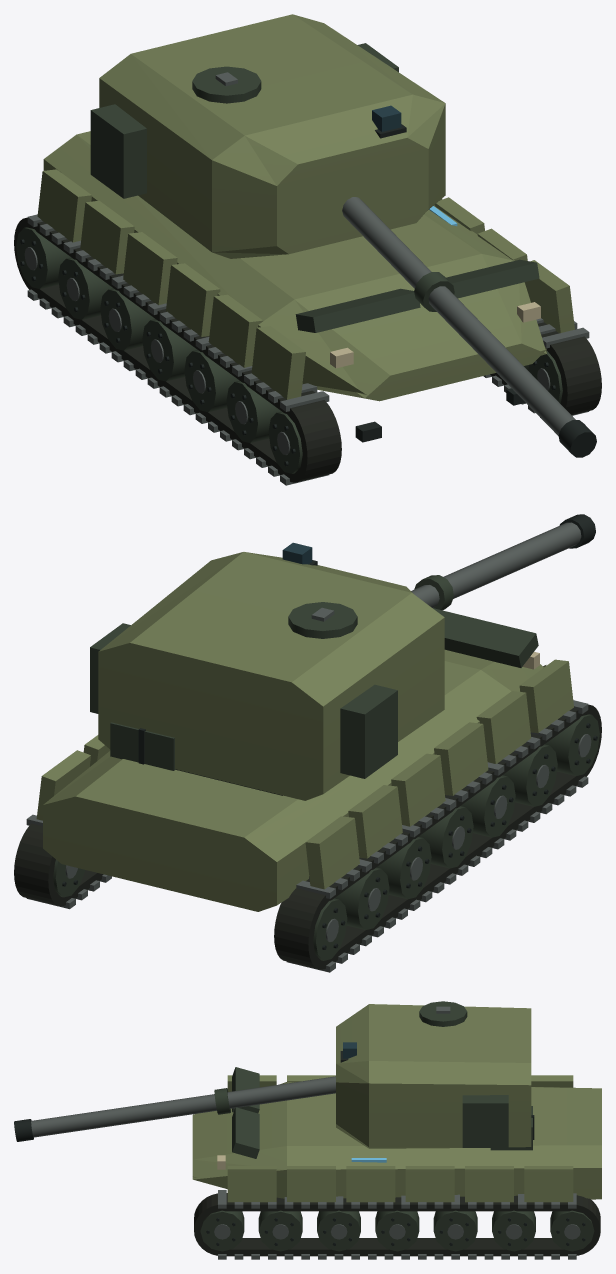
The model's file is artillery.glb.
3 renders of one model, top to bottom at view 1: azimuth 30°, elevation 25°; view 2: azimuth 150°, elevation 25°; view 3: azimuth 270°, elevation 25°, orthographic. The views are drawn at different scales.
Parts seen in each view (by area): view 1: armor (×2), equipment (×3), glass; view 2: armor (×2), equipment (×3); view 3: armor (×2), equipment (×3).
Part boxes in pixels (x1,y1,x2,y2): armor (×2): (37, 14, 574, 401); equipment (×3): (14, 43, 601, 485); glass: (372, 105, 401, 131); armor (×2): (36, 552, 573, 911); equipment (×3): (14, 514, 601, 972); armor (×2): (192, 1004, 601, 1202); equipment (×3): (14, 1001, 600, 1259).
Size of the model in its own units: 3.46 by 2.86 by 8.33.
